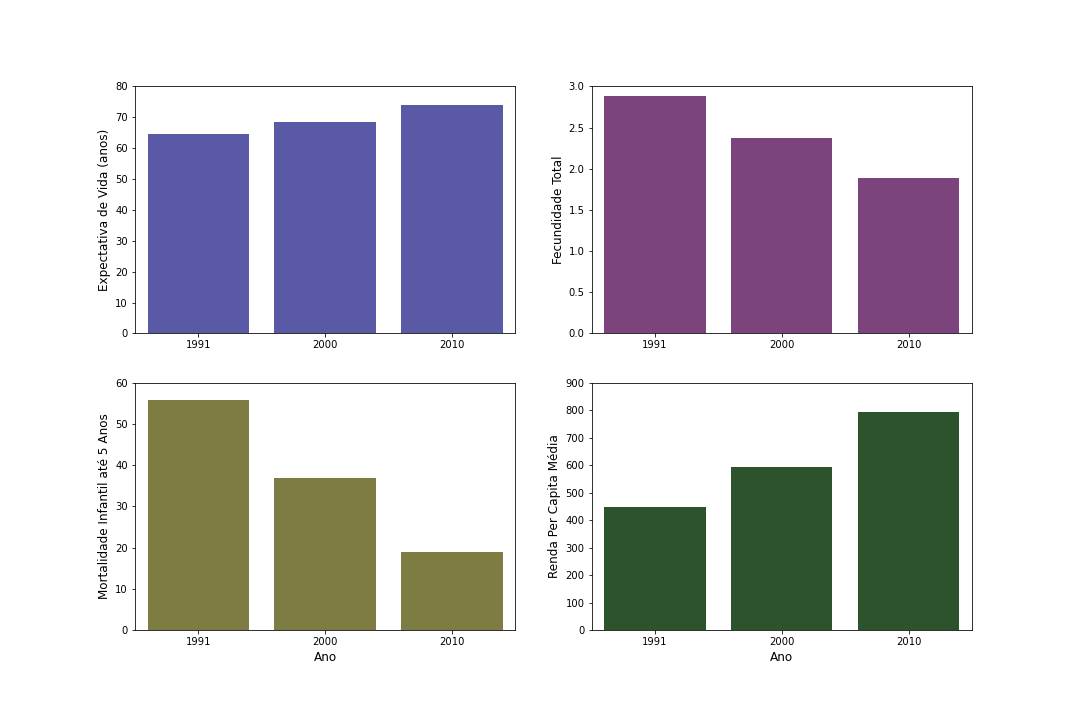

The page's visual inventory and layout, read from the dashboard file:
{"tool":"powerbi","page":{"name":"Análise Populacional","canvas":[1280,950],"ordinal":1},"visuals":[{"type":"pythonVisual","title":"Expectativa de Vida","fields":{"Values":["dadosBrasil.ano","dadosBrasil.expectativa_vida"]},"box":[72.4,156.7,546.4,356],"z":0},{"type":"pythonVisual","title":"Fecundidade Anual","fields":{"Values":["dadosBrasil.ano","dadosBrasil.fecundidade_total"]},"box":[71,552.6,546,356],"z":1000},{"type":"pythonVisual","title":"Mortalidade Anual","fields":{"Values":["dadosBrasil.ano","dadosBrasil.mortalidade_5"]},"box":[669.4,155.6,546,356],"z":2000},{"type":"pythonVisual","title":"Renda Per Capita Anual","fields":{"Values":["dadosBrasil.ano","dadosBrasil.renda_pc"]},"box":[667.3,552.6,546.4,356],"z":3000},{"type":"textbox","box":[71.3,21,1142.9,96.5],"z":4000}]}

Visuals, with their boxes on the page's 1280x950 design canvas (x1, y1, x2, y2). These are canvas units, not pixel positions in the 1080x720 screenshot, which may show the page scaled, cropped or inside an application window:
"Expectativa de Vida" pythonVisual: (72,157,619,513)
"Fecundidade Anual" pythonVisual: (71,553,617,909)
"Mortalidade Anual" pythonVisual: (669,156,1215,512)
"Renda Per Capita Anual" pythonVisual: (667,553,1214,909)
textbox: (71,21,1214,118)
